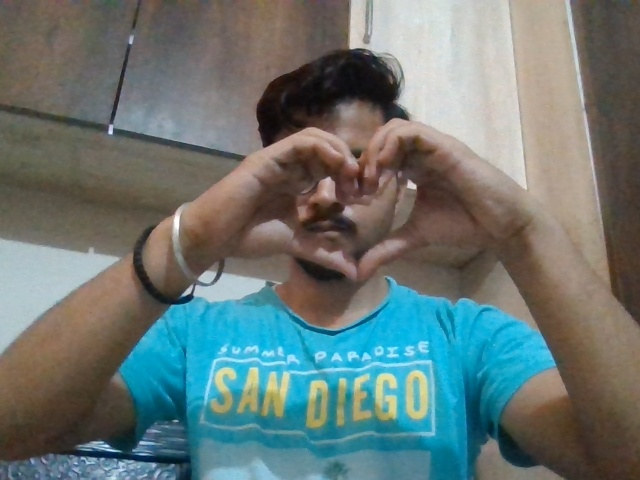iloveyou: (222, 114, 523, 298)
